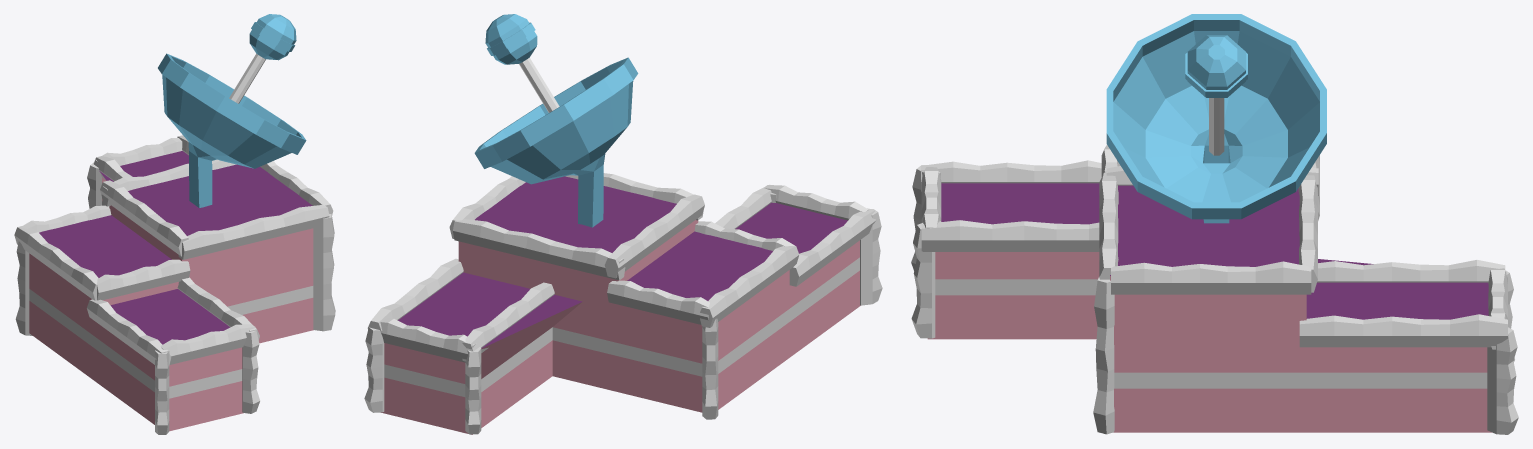
Rendered from Tower_Support_RangeUp (2).fbx.
The picture shows the model from 3 angles, left to right: view 1: azimuth 30°, elevation 25°; view 2: azimuth 150°, elevation 25°; view 3: azimuth 270°, elevation 25°; orthographic projection. The views are drawn at different scales.
Parts seen in each view (by area): view 1: Cube.029, Cube.069, Cube.031; view 2: Cube.029, Cube.069, Cube.031; view 3: Cube.029, Cube.069, Cube.031.
Boxes of the visible parts, left/top/right/bottom form: Cube.029: left=29, top=151, right=313, bottom=431; Cube.069: left=14, top=135, right=335, bottom=434; Cube.031: left=158, top=14, right=306, bottom=207; Cube.029: left=380, top=176, right=860, bottom=434; Cube.069: left=364, top=173, right=882, bottom=434; Cube.031: left=474, top=14, right=638, bottom=227; Cube.029: left=927, top=183, right=1491, bottom=432; Cube.069: left=911, top=145, right=1518, bottom=434; Cube.031: left=1106, top=14, right=1326, bottom=223.
Bounding box in the file's own units: 179 × 196 × 278.
